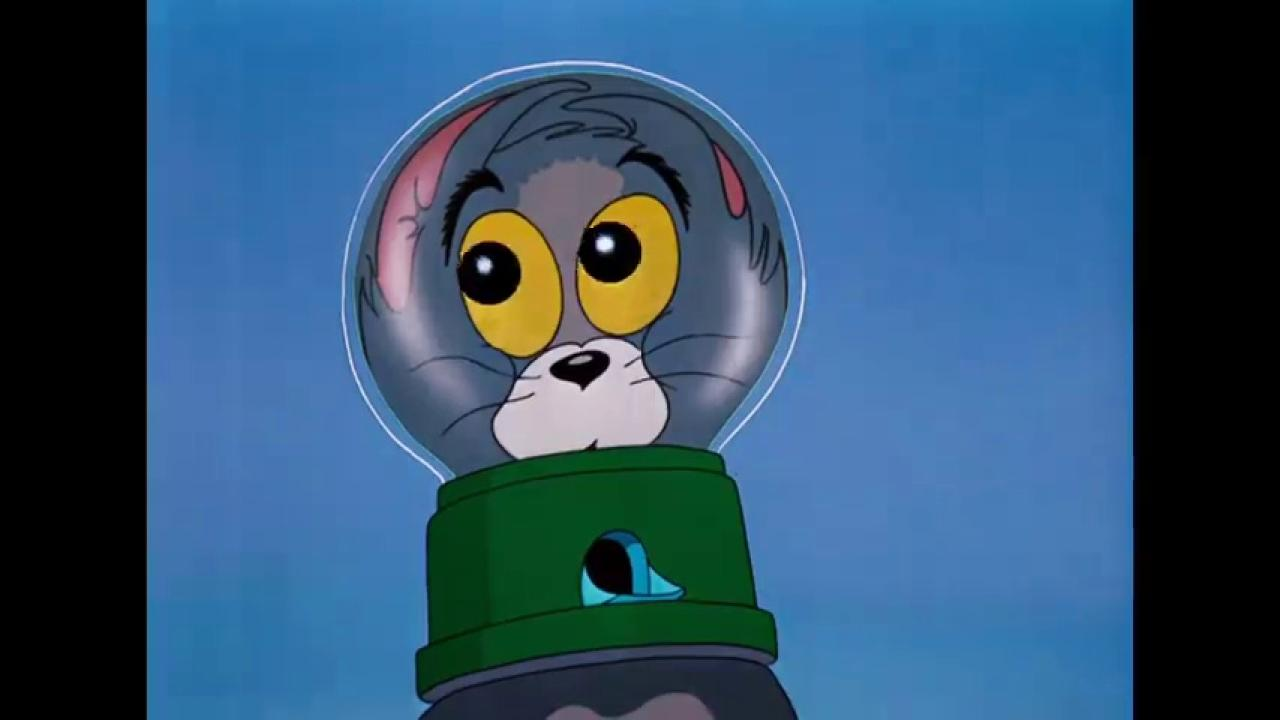Tom: (337, 61, 806, 720)
